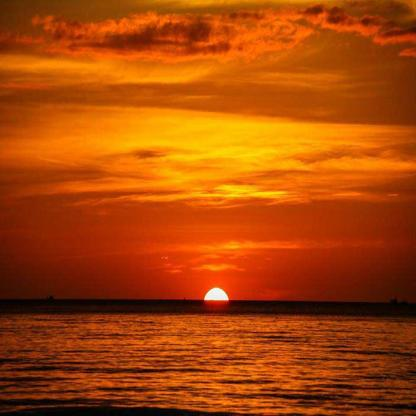other: (113, 106, 323, 208), (190, 278, 242, 314)
